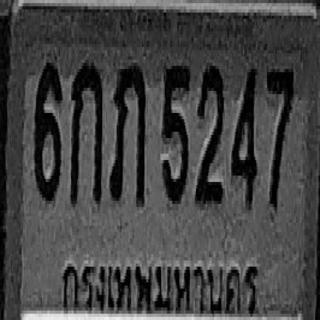A01: (70, 60, 102, 204)
A32: (110, 63, 146, 204)
N02: (195, 63, 224, 204)
N04: (231, 64, 258, 209)
N05: (162, 61, 190, 202)
N06: (34, 60, 61, 201)
N07: (266, 64, 294, 209)
P04: (56, 248, 262, 320)
